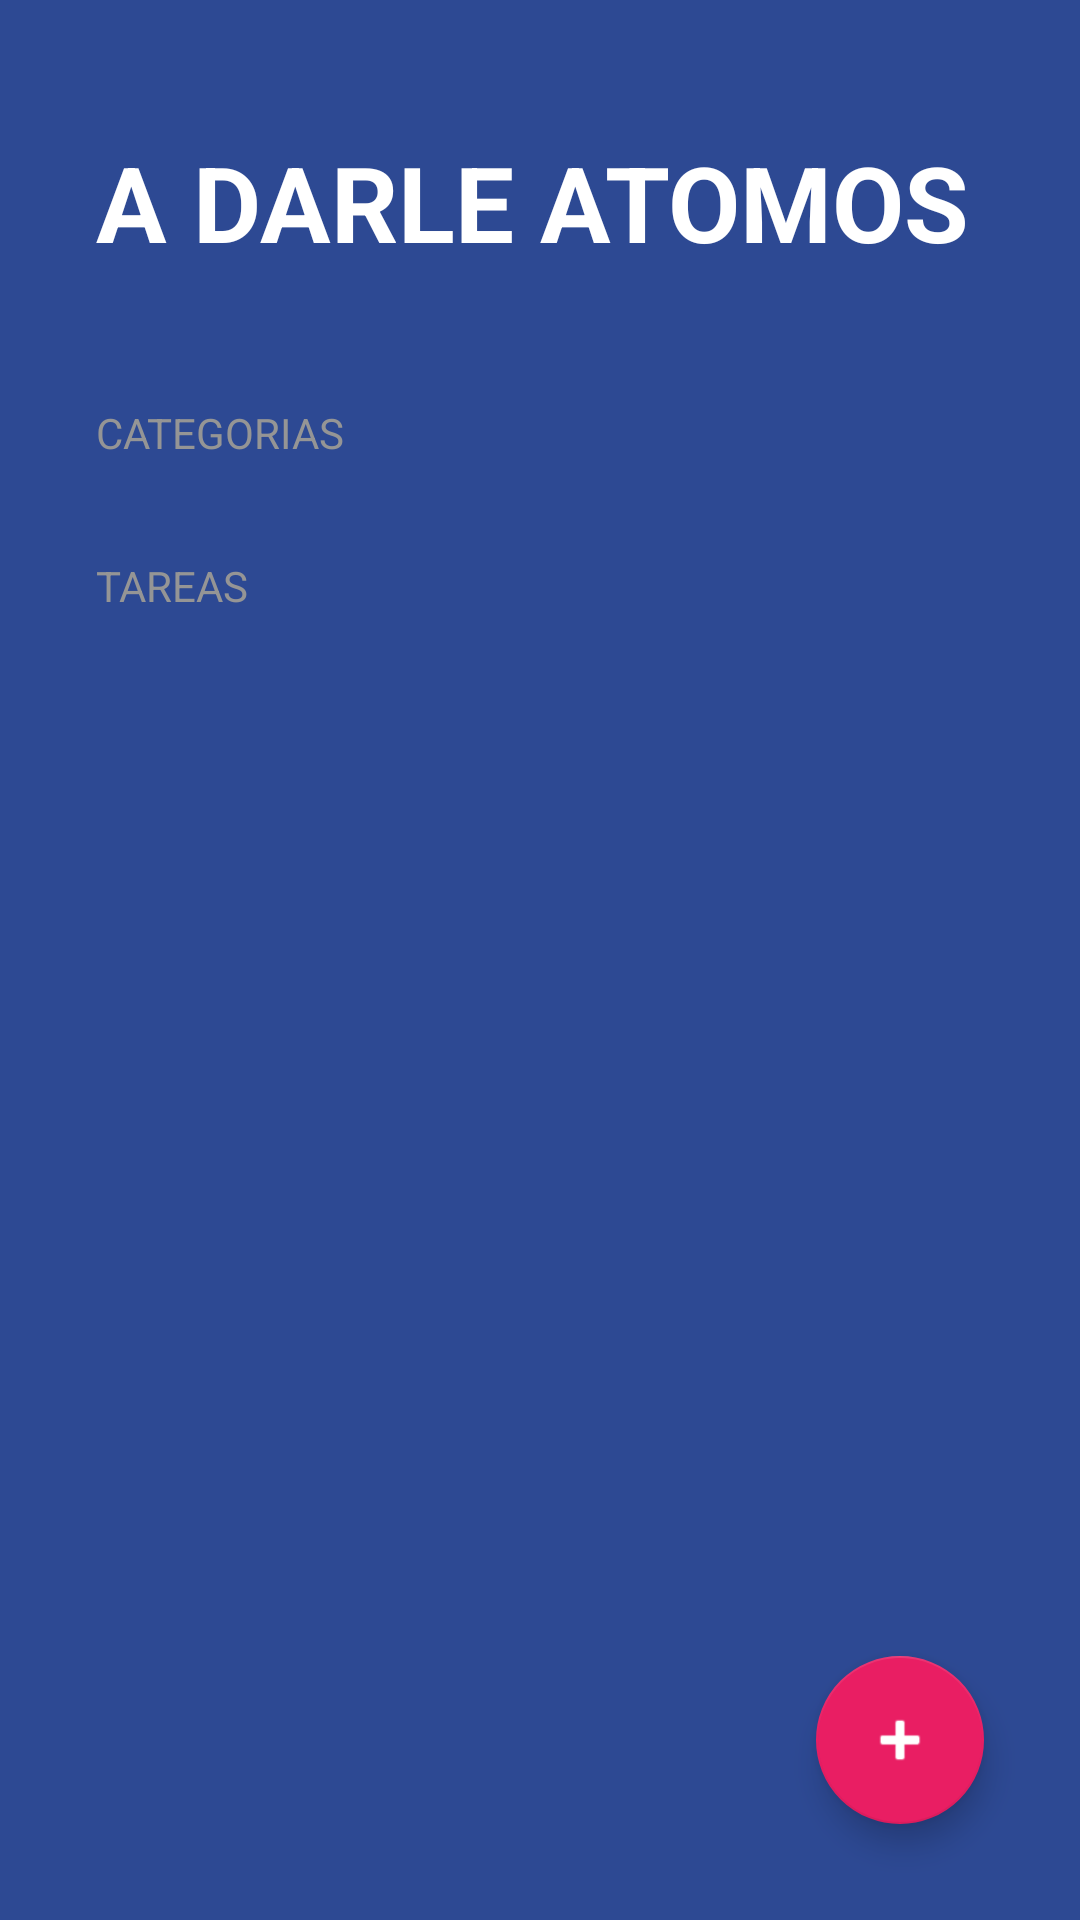

Icons on this 1080 × 1920 Android screen, each with the point to tap as (x,y):
fab add task: (900,1740)
